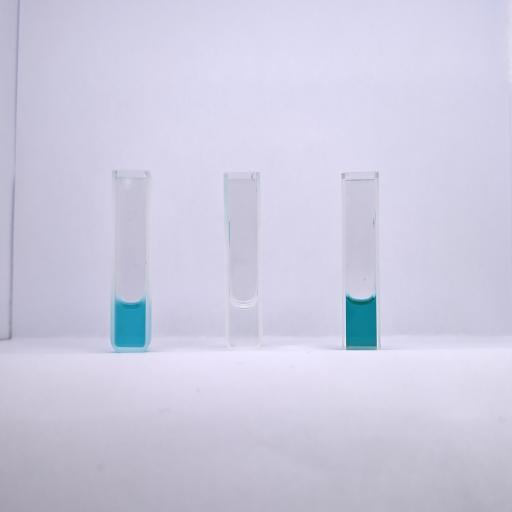cuvette: (109, 166, 153, 355), (220, 169, 264, 353), (338, 169, 382, 353)
liquid: (346, 296, 376, 346), (114, 298, 144, 347), (228, 300, 257, 346)
